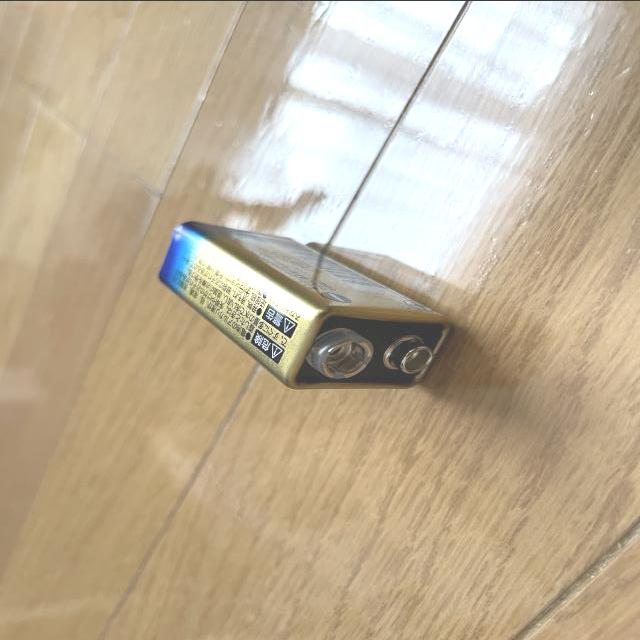9V: (158, 218, 452, 390)
